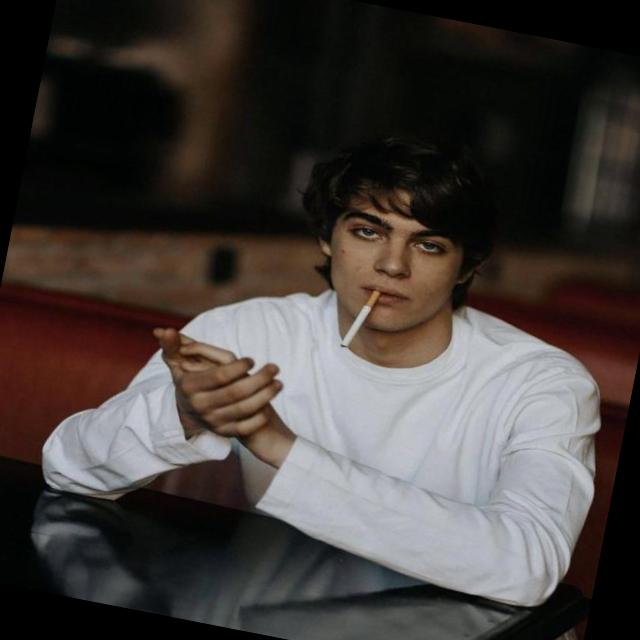smoke: (323, 275, 389, 364)
